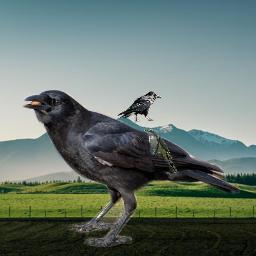Crow: (22, 88, 240, 247), (117, 91, 161, 123)
Cuckoo: (144, 129, 177, 173)
